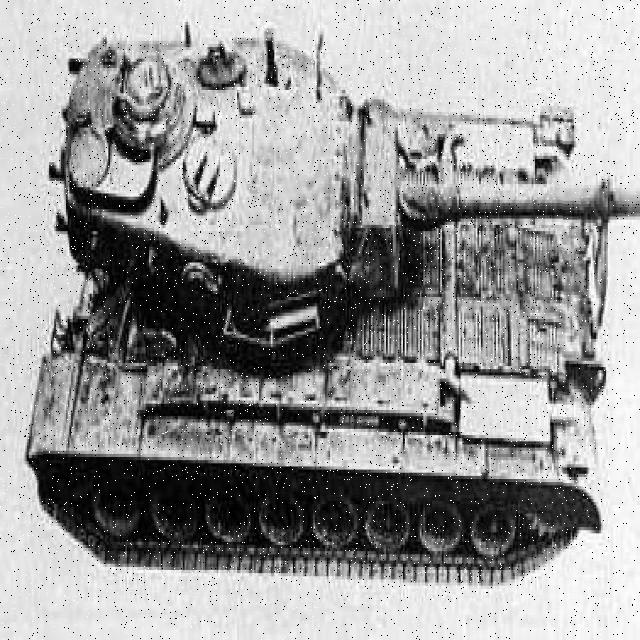MIL_MBT: (43, 50, 563, 604)
